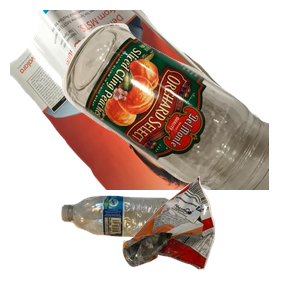glass: (60, 21, 300, 201)
paper: (10, 10, 250, 190)
plastic: (59, 193, 241, 300)
trash: (120, 174, 300, 300)
